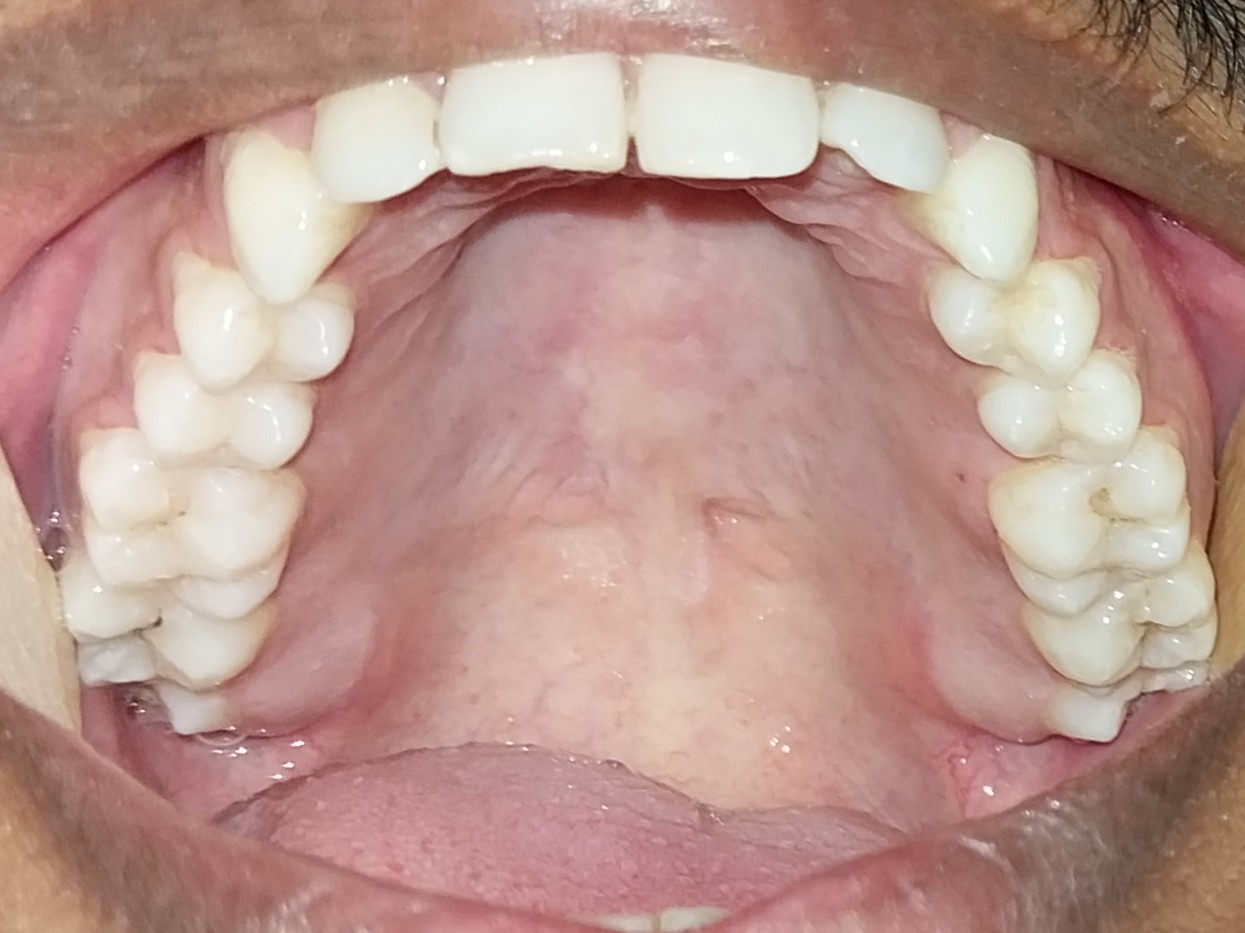D: (60, 553, 261, 686)
